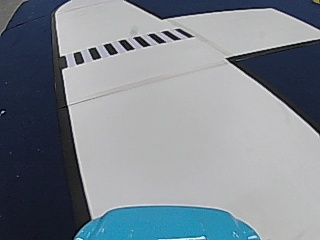CrossWalk: (63, 28, 189, 66)
